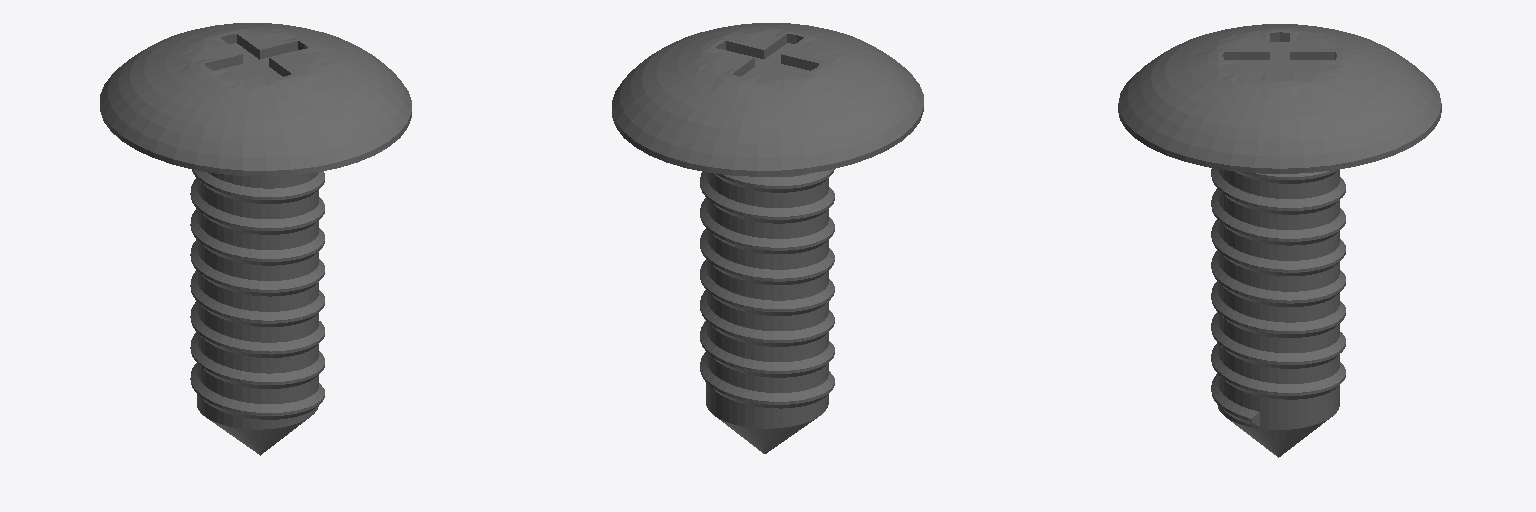
3 renders of one model, left to right at view 1: azimuth 30°, elevation 25°; view 2: azimuth 150°, elevation 25°; view 3: azimuth 270°, elevation 25°, orthographic.
Parts seen in each view (by area): view 1: Helix001, Cylinder002; view 2: Helix001, Cylinder002; view 3: Helix001, Cylinder002.
Part boxes in pixels (x1,y1,x2,y2): Helix001: (100, 23, 411, 176); Cylinder002: (190, 170, 324, 455); Helix001: (612, 23, 923, 176); Cylinder002: (700, 169, 834, 453); Helix001: (1118, 24, 1441, 173); Cylinder002: (1211, 168, 1345, 457).
Size of the model in its own units: 0.8058 by 1.15 by 0.8459.